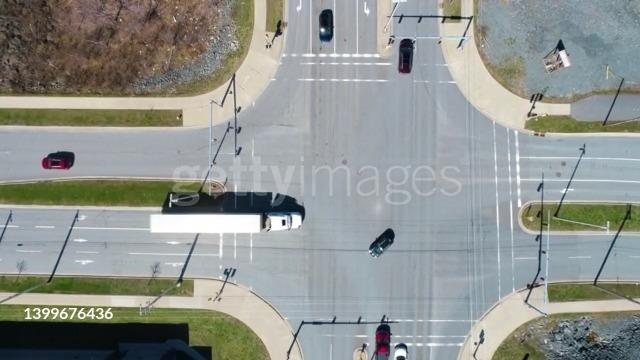car: (365, 229, 397, 261), (317, 6, 335, 42), (374, 324, 392, 360), (398, 37, 414, 77), (42, 154, 74, 170), (396, 344, 406, 360)
truck: (147, 212, 307, 232)
